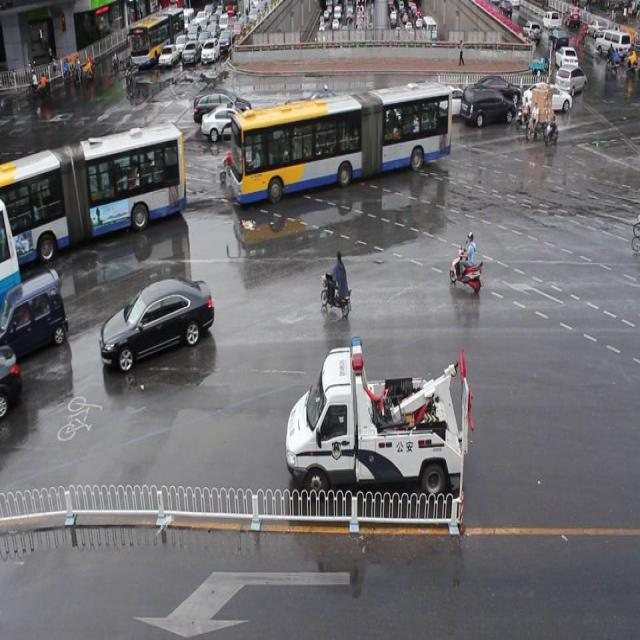bus: (285, 338, 464, 498)
car: (100, 275, 214, 367), (1, 272, 68, 356), (460, 85, 515, 127), (520, 80, 570, 114), (472, 74, 520, 106)
van: (230, 82, 450, 202), (1, 126, 184, 264)
